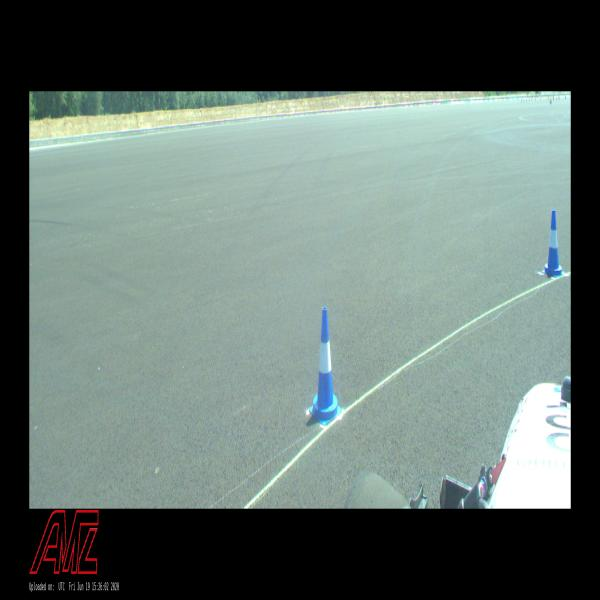blue_cone: (314, 306, 338, 419), (544, 210, 562, 276)
